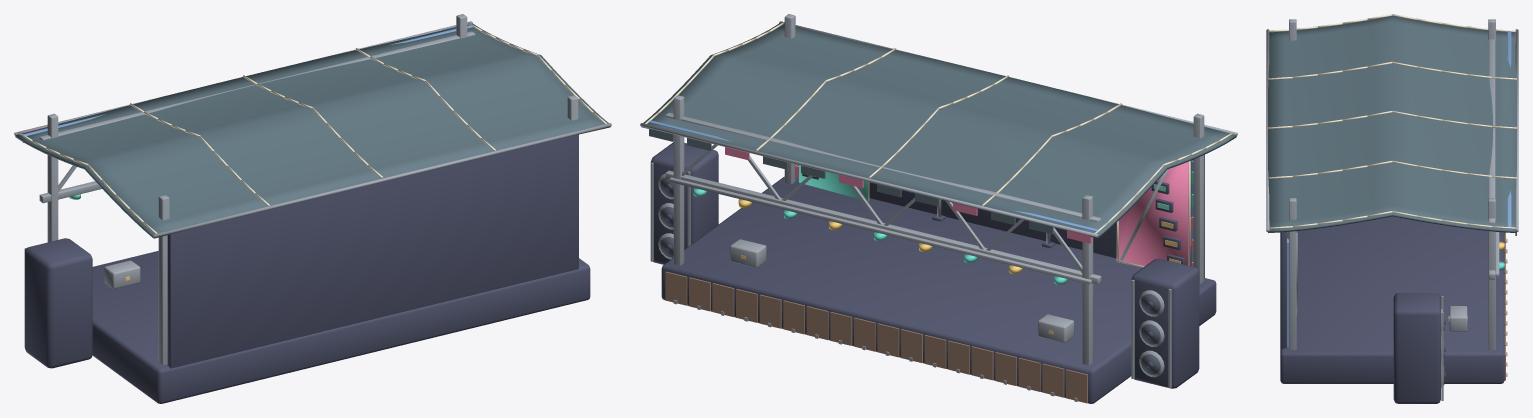
Rendered from FestivalStage.fbx.
3 views of the same model, side by side, from view 1: azimuth 30°, elevation 25°; view 2: azimuth 150°, elevation 25°; view 3: azimuth 270°, elevation 25° (orthographic). The views are drawn at different scales.
Visible parts, largest first — view 1: FestivalStage Dark__Dark, FestivalStage CanvasDark__CanvasDark, FestivalStage Metal__Metal, FestivalStage CanvasCream__CanvasCream; view 2: FestivalStage CanvasDark__CanvasDark, FestivalStage Dark__Dark, FestivalStage Metal__Metal, FestivalStage Wood__Wood, FestivalStage CanvasRose__CanvasRose, FestivalStage CanvasCream__CanvasCream, FestivalStage Rubber__Rubber, FestivalStage CanvasMint__CanvasMint, FestivalStage Blue__Blue, FestivalStage Mint__Mint; view 3: FestivalStage CanvasDark__CanvasDark, FestivalStage Dark__Dark, FestivalStage Metal__Metal, FestivalStage CanvasCream__CanvasCream, FestivalStage Blue__Blue, FestivalStage Wood__Wood.
Part boxes in pixels (left/top/right/bottom): FestivalStage Dark__Dark: left=24, top=134, right=590, bottom=403; FestivalStage CanvasDark__CanvasDark: left=15, top=23, right=610, bottom=238; FestivalStage Metal__Metal: left=14, top=14, right=611, bottom=365; FestivalStage CanvasCream__CanvasCream: left=18, top=22, right=606, bottom=233; FestivalStage CanvasDark__CanvasDark: left=641, top=23, right=1236, bottom=238; FestivalStage Dark__Dark: left=650, top=142, right=1216, bottom=403; FestivalStage Metal__Metal: left=640, top=14, right=1237, bottom=401; FestivalStage Wood__Wood: left=665, top=271, right=1087, bottom=403; FestivalStage CanvasRose__CanvasRose: left=725, top=147, right=1188, bottom=266; FestivalStage CanvasCream__CanvasCream: left=645, top=22, right=1233, bottom=267; FestivalStage Rubber__Rubber: left=660, top=177, right=1160, bottom=374; FestivalStage CanvasMint__CanvasMint: left=799, top=165, right=867, bottom=200; FestivalStage Blue__Blue: left=648, top=120, right=1193, bottom=262; FestivalStage Mint__Mint: left=693, top=171, right=1193, bottom=284; FestivalStage CanvasDark__CanvasDark: left=1268, top=14, right=1516, bottom=235; FestivalStage Dark__Dark: left=1280, top=216, right=1504, bottom=403; FestivalStage Metal__Metal: left=1266, top=19, right=1518, bottom=400; FestivalStage CanvasCream__CanvasCream: left=1268, top=14, right=1516, bottom=229; FestivalStage Blue__Blue: left=1287, top=31, right=1511, bottom=347; FestivalStage Wood__Wood: left=1504, top=232, right=1505, bottom=380.
Size of the model in its own units: 2190 by 800 by 1014.
